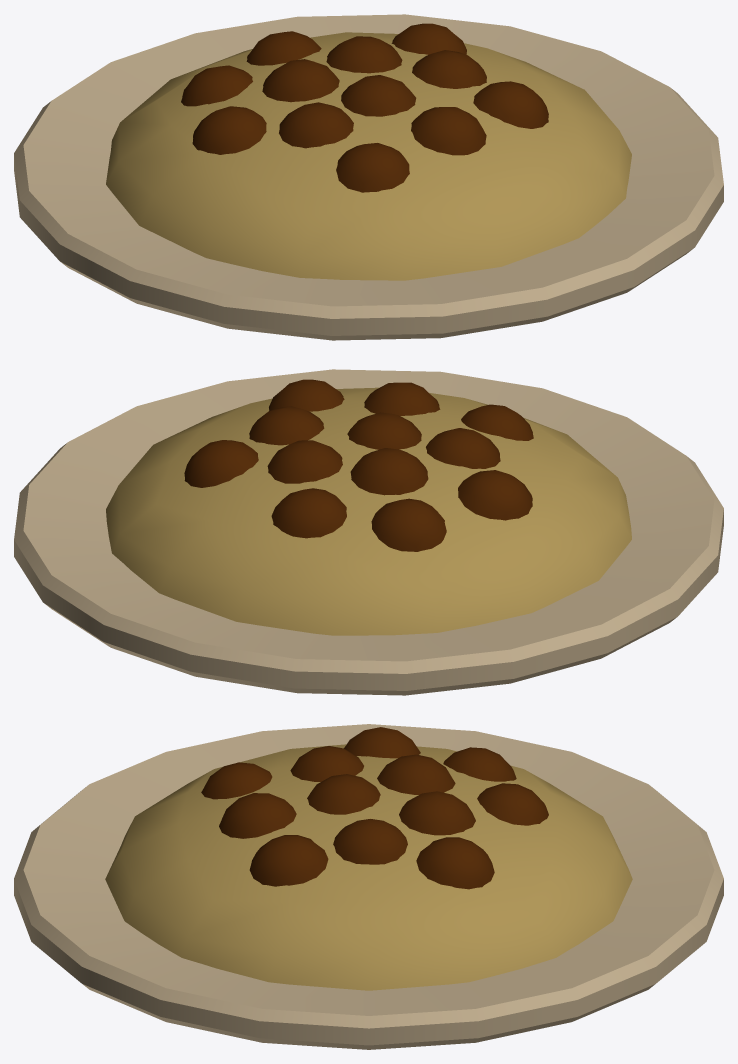
The model's file is macguffinMesh_HWG.fbx.
3 views of the same model, one above another, from view 1: azimuth 30°, elevation 25°; view 2: azimuth 150°, elevation 25°; view 3: azimuth 270°, elevation 25° (orthographic).
Parts seen in each view (by area): view 1: macguffin; view 2: macguffin; view 3: macguffin.
Part boxes in pixels (bbox=[...]): macguffin: bbox=[14, 14, 723, 340]; macguffin: bbox=[14, 369, 723, 695]; macguffin: bbox=[14, 724, 723, 1049].
Bounding box in the file's own units: 21.93 × 5.35 × 21.93.
